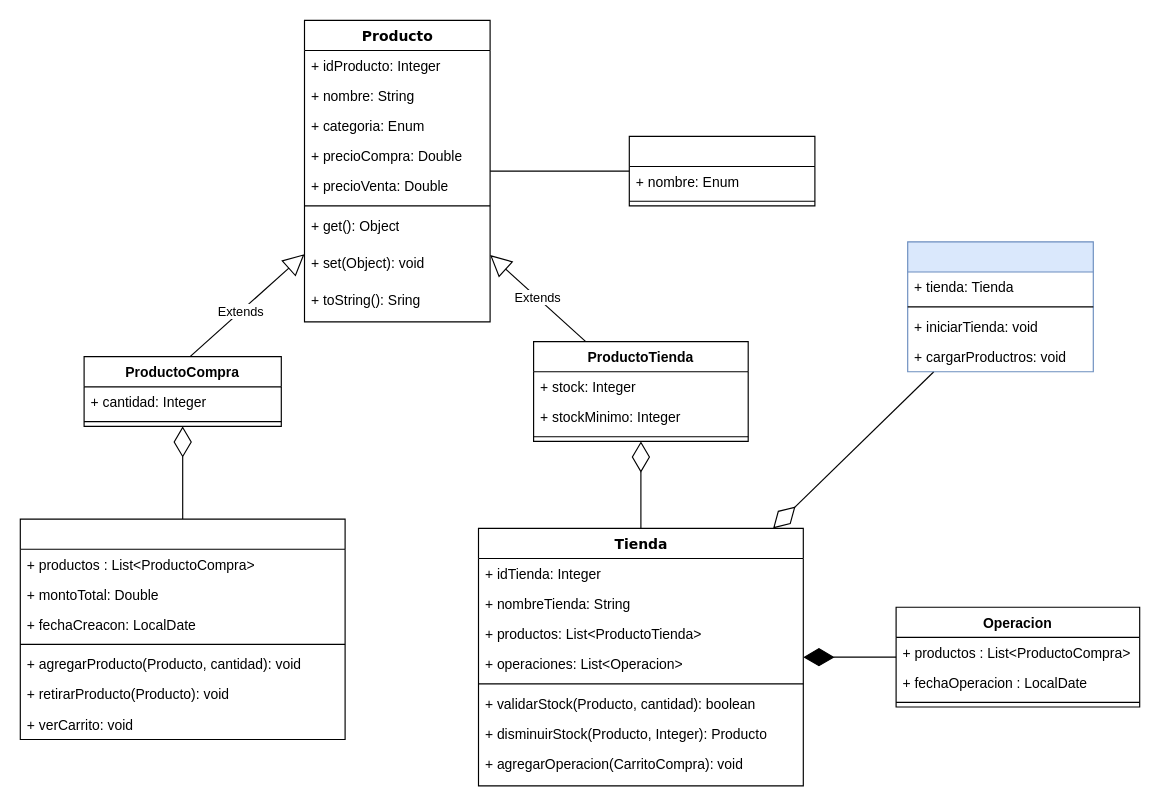
Image size: 1160x806. Some labels were removed from this diagram. Each missing label, with the box of its shape:
CarritoCompra: (19, 518, 345, 740)
Categoria: (628, 135, 815, 206)
ProgramaBonus: (907, 241, 1093, 372)
